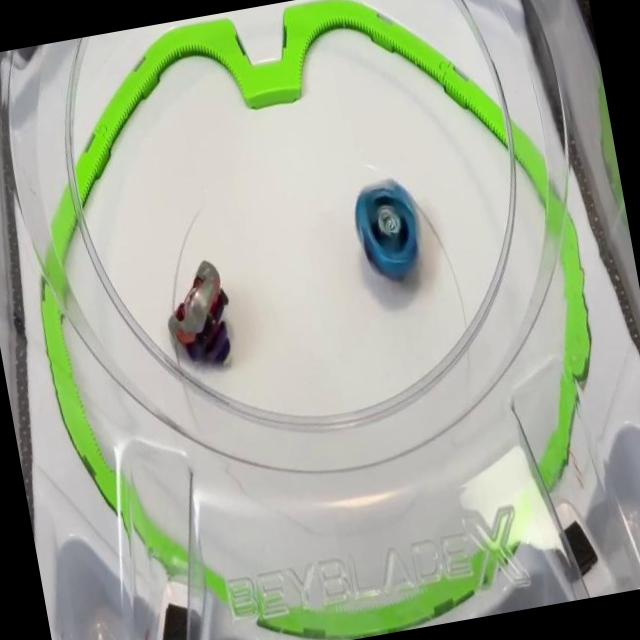Beyblade: (344, 170, 434, 294), (162, 258, 240, 372)
